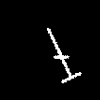double_crochet: (47, 28, 80, 82)
